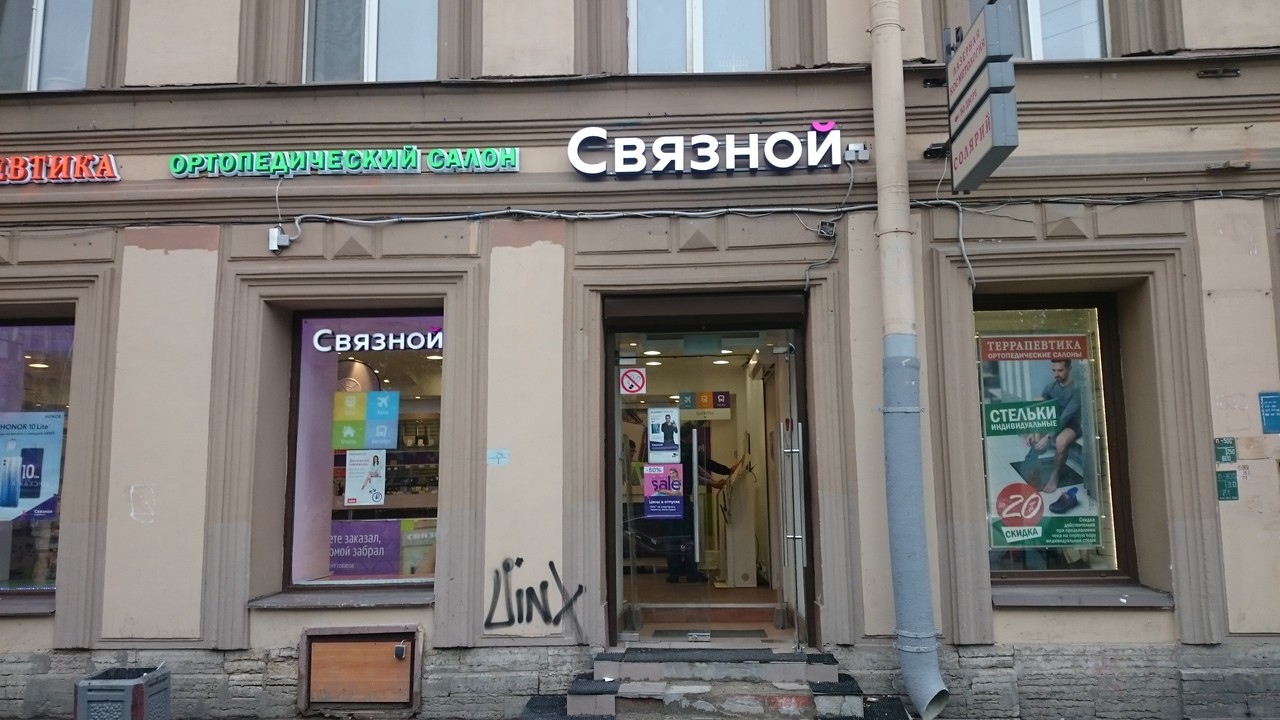cantilever: (924, 2, 1023, 197)
door: (616, 352, 807, 645)
signboard: (567, 121, 845, 175), (165, 145, 517, 179), (1, 152, 120, 187)
window: (973, 297, 1132, 583), (285, 313, 442, 588), (1, 304, 75, 594)
